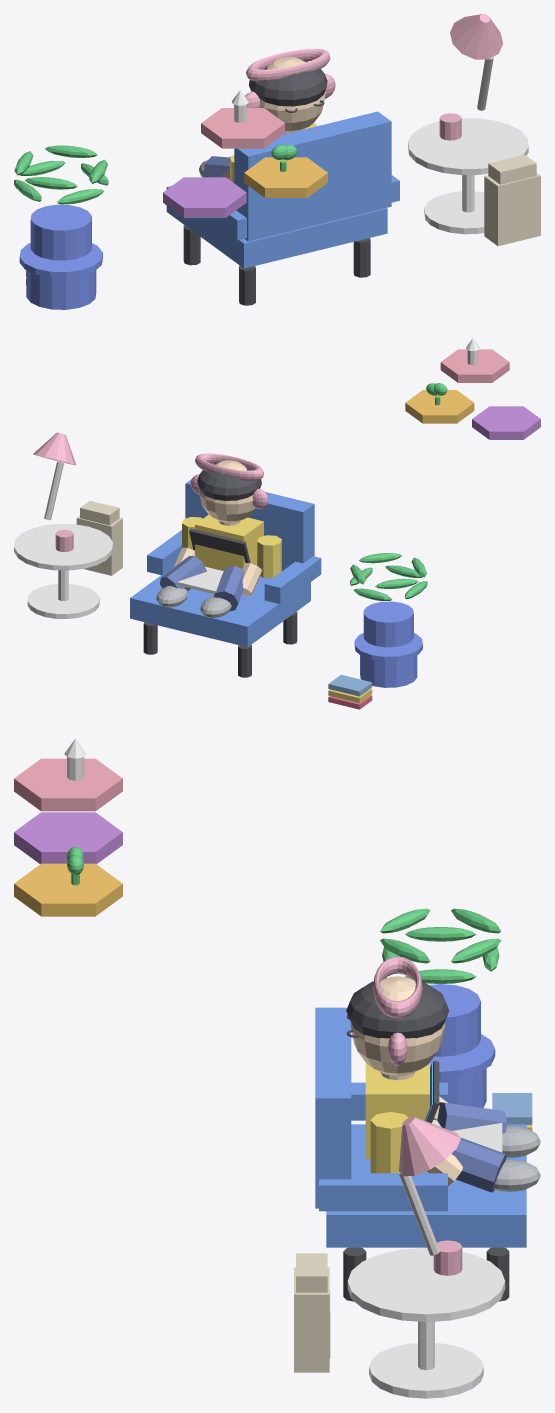
The model's file is polywork_scene.glb.
3 views of the same model, one above another, from view 1: azimuth 30°, elevation 25°; view 2: azimuth 150°, elevation 25°; view 3: azimuth 270°, elevation 25° (orthographic). The views are drawn at different scales.
Visible parts, largest first — view 1: chair_back, chair_seat, table_top, backpack_body, pot, hex_purple, hex_orange, hex_pink, plant_stand, hair, table_base, lamp_head (+16 smaller); view 2: chair_seat, chair_back, table_top, torso, pot, table_base, hex_purple, hex_orange, hex_pink, arm_l, plant_stand, hair (+18 smaller); view 3: chair_seat, table_top, chair_back, table_base, hex_orange, hex_purple, hex_pink, arm_r, hair, head, backpack_body, torso (+17 smaller).
Boxes of the visible parts, x1,y1,x2,y2 form: chair_back: [234, 111, 391, 241]; chair_seat: [166, 186, 387, 268]; table_top: [408, 118, 528, 175]; backpack_body: [484, 173, 540, 246]; pot: [30, 204, 91, 260]; hex_purple: [163, 177, 246, 217]; hex_orange: [244, 157, 327, 197]; hex_pink: [201, 108, 284, 148]; plant_stand: [26, 270, 96, 309]; hair: [249, 59, 327, 106]; table_base: [424, 191, 484, 234]; lamp_head: [450, 14, 503, 59]; chair_seat: [130, 568, 310, 647]; chair_back: [185, 479, 314, 570]; table_top: [14, 523, 112, 570]; torso: [195, 514, 263, 570]; pot: [363, 601, 413, 647]; table_base: [27, 584, 99, 618]; hex_purple: [472, 406, 540, 439]; hex_orange: [405, 390, 474, 423]; hex_pink: [440, 349, 509, 382]; arm_l: [264, 556, 321, 604]; plant_stand: [360, 655, 417, 687]; hair: [197, 462, 261, 500]; chair_seat: [326, 1124, 526, 1247]; table_top: [347, 1247, 505, 1321]; chair_back: [315, 1007, 351, 1208]; table_base: [369, 1343, 483, 1398]; hex_orange: [14, 863, 122, 916]; hex_purple: [14, 812, 122, 864]; hex_pink: [14, 758, 122, 811]; arm_r: [319, 1173, 447, 1211]; hair: [346, 978, 449, 1038]; head: [350, 976, 444, 1076]; backpack_body: [294, 1267, 329, 1372]; torso: [365, 1063, 429, 1159].
Size of what is drawn, in the model's own units: 5.17 by 3.18 by 3.68.
